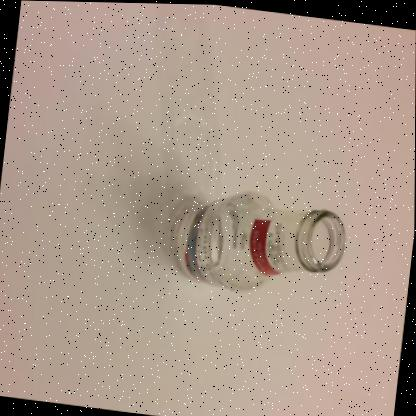Glass: (171, 193, 344, 290)
